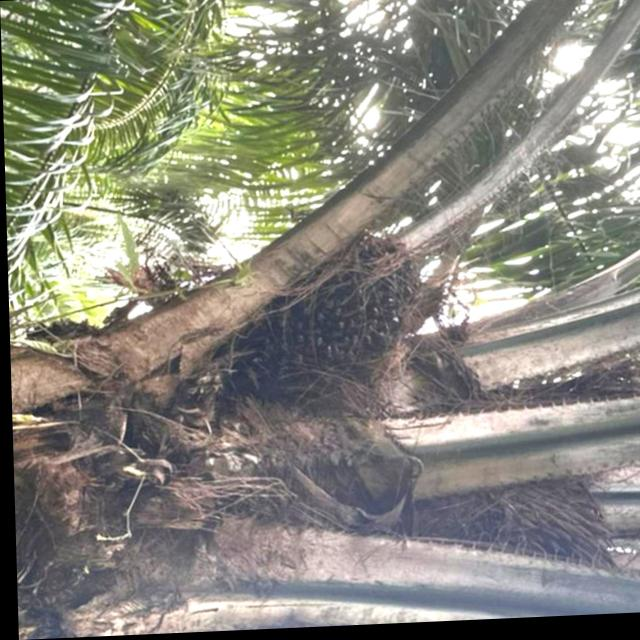unripe: (238, 234, 412, 397)
